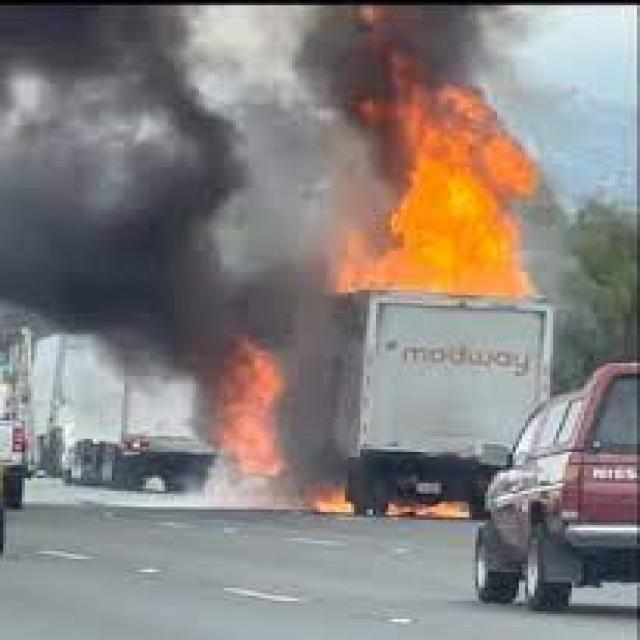fire: (329, 57, 547, 285), (214, 342, 289, 478), (305, 486, 469, 520)
smoke: (3, 3, 208, 376), (289, 5, 509, 180)
